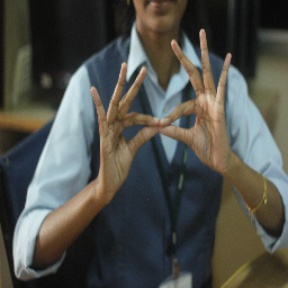B: (110, 92, 213, 165)
